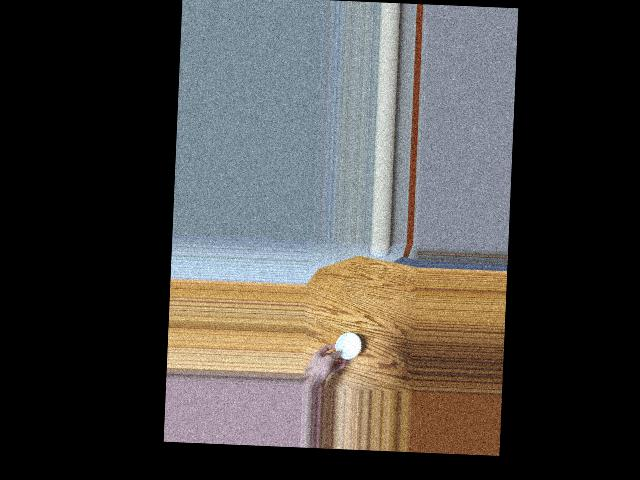cotage: (334, 331, 363, 361)
